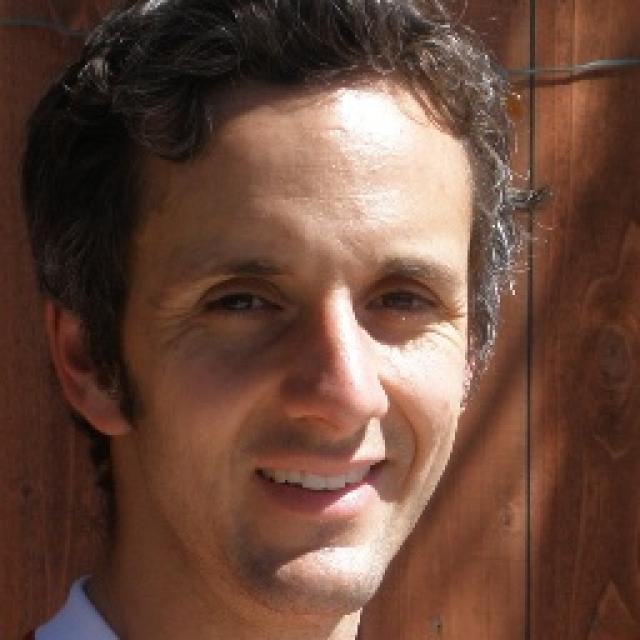earlobe: (44, 268, 132, 438), (464, 258, 492, 409)
